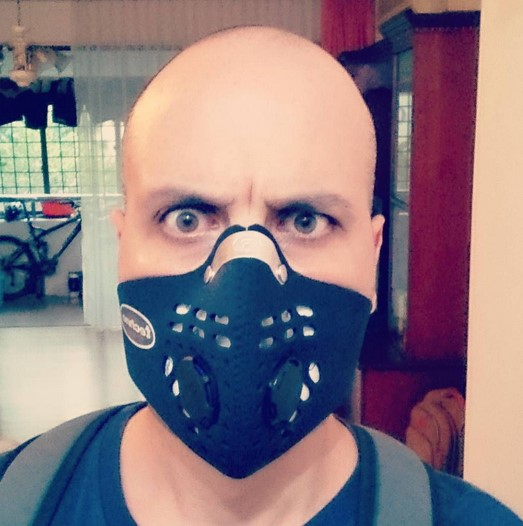face_with_mask: (113, 29, 391, 483)
